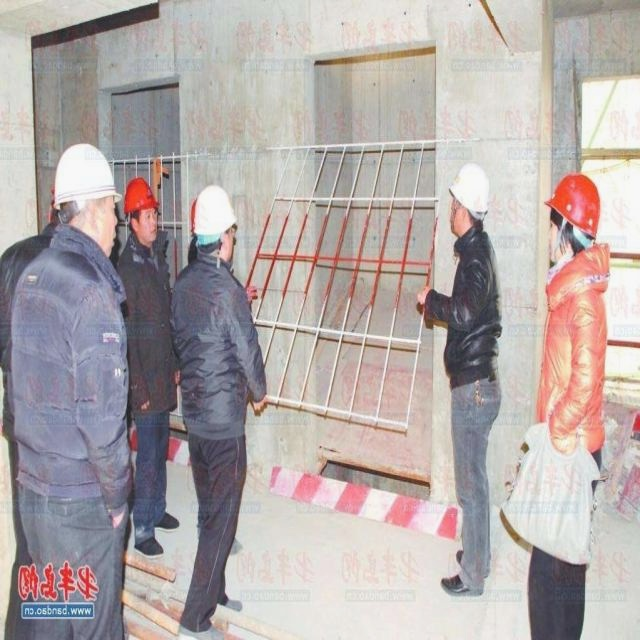Con_Casco: (196, 184, 239, 262), (447, 164, 488, 234)
